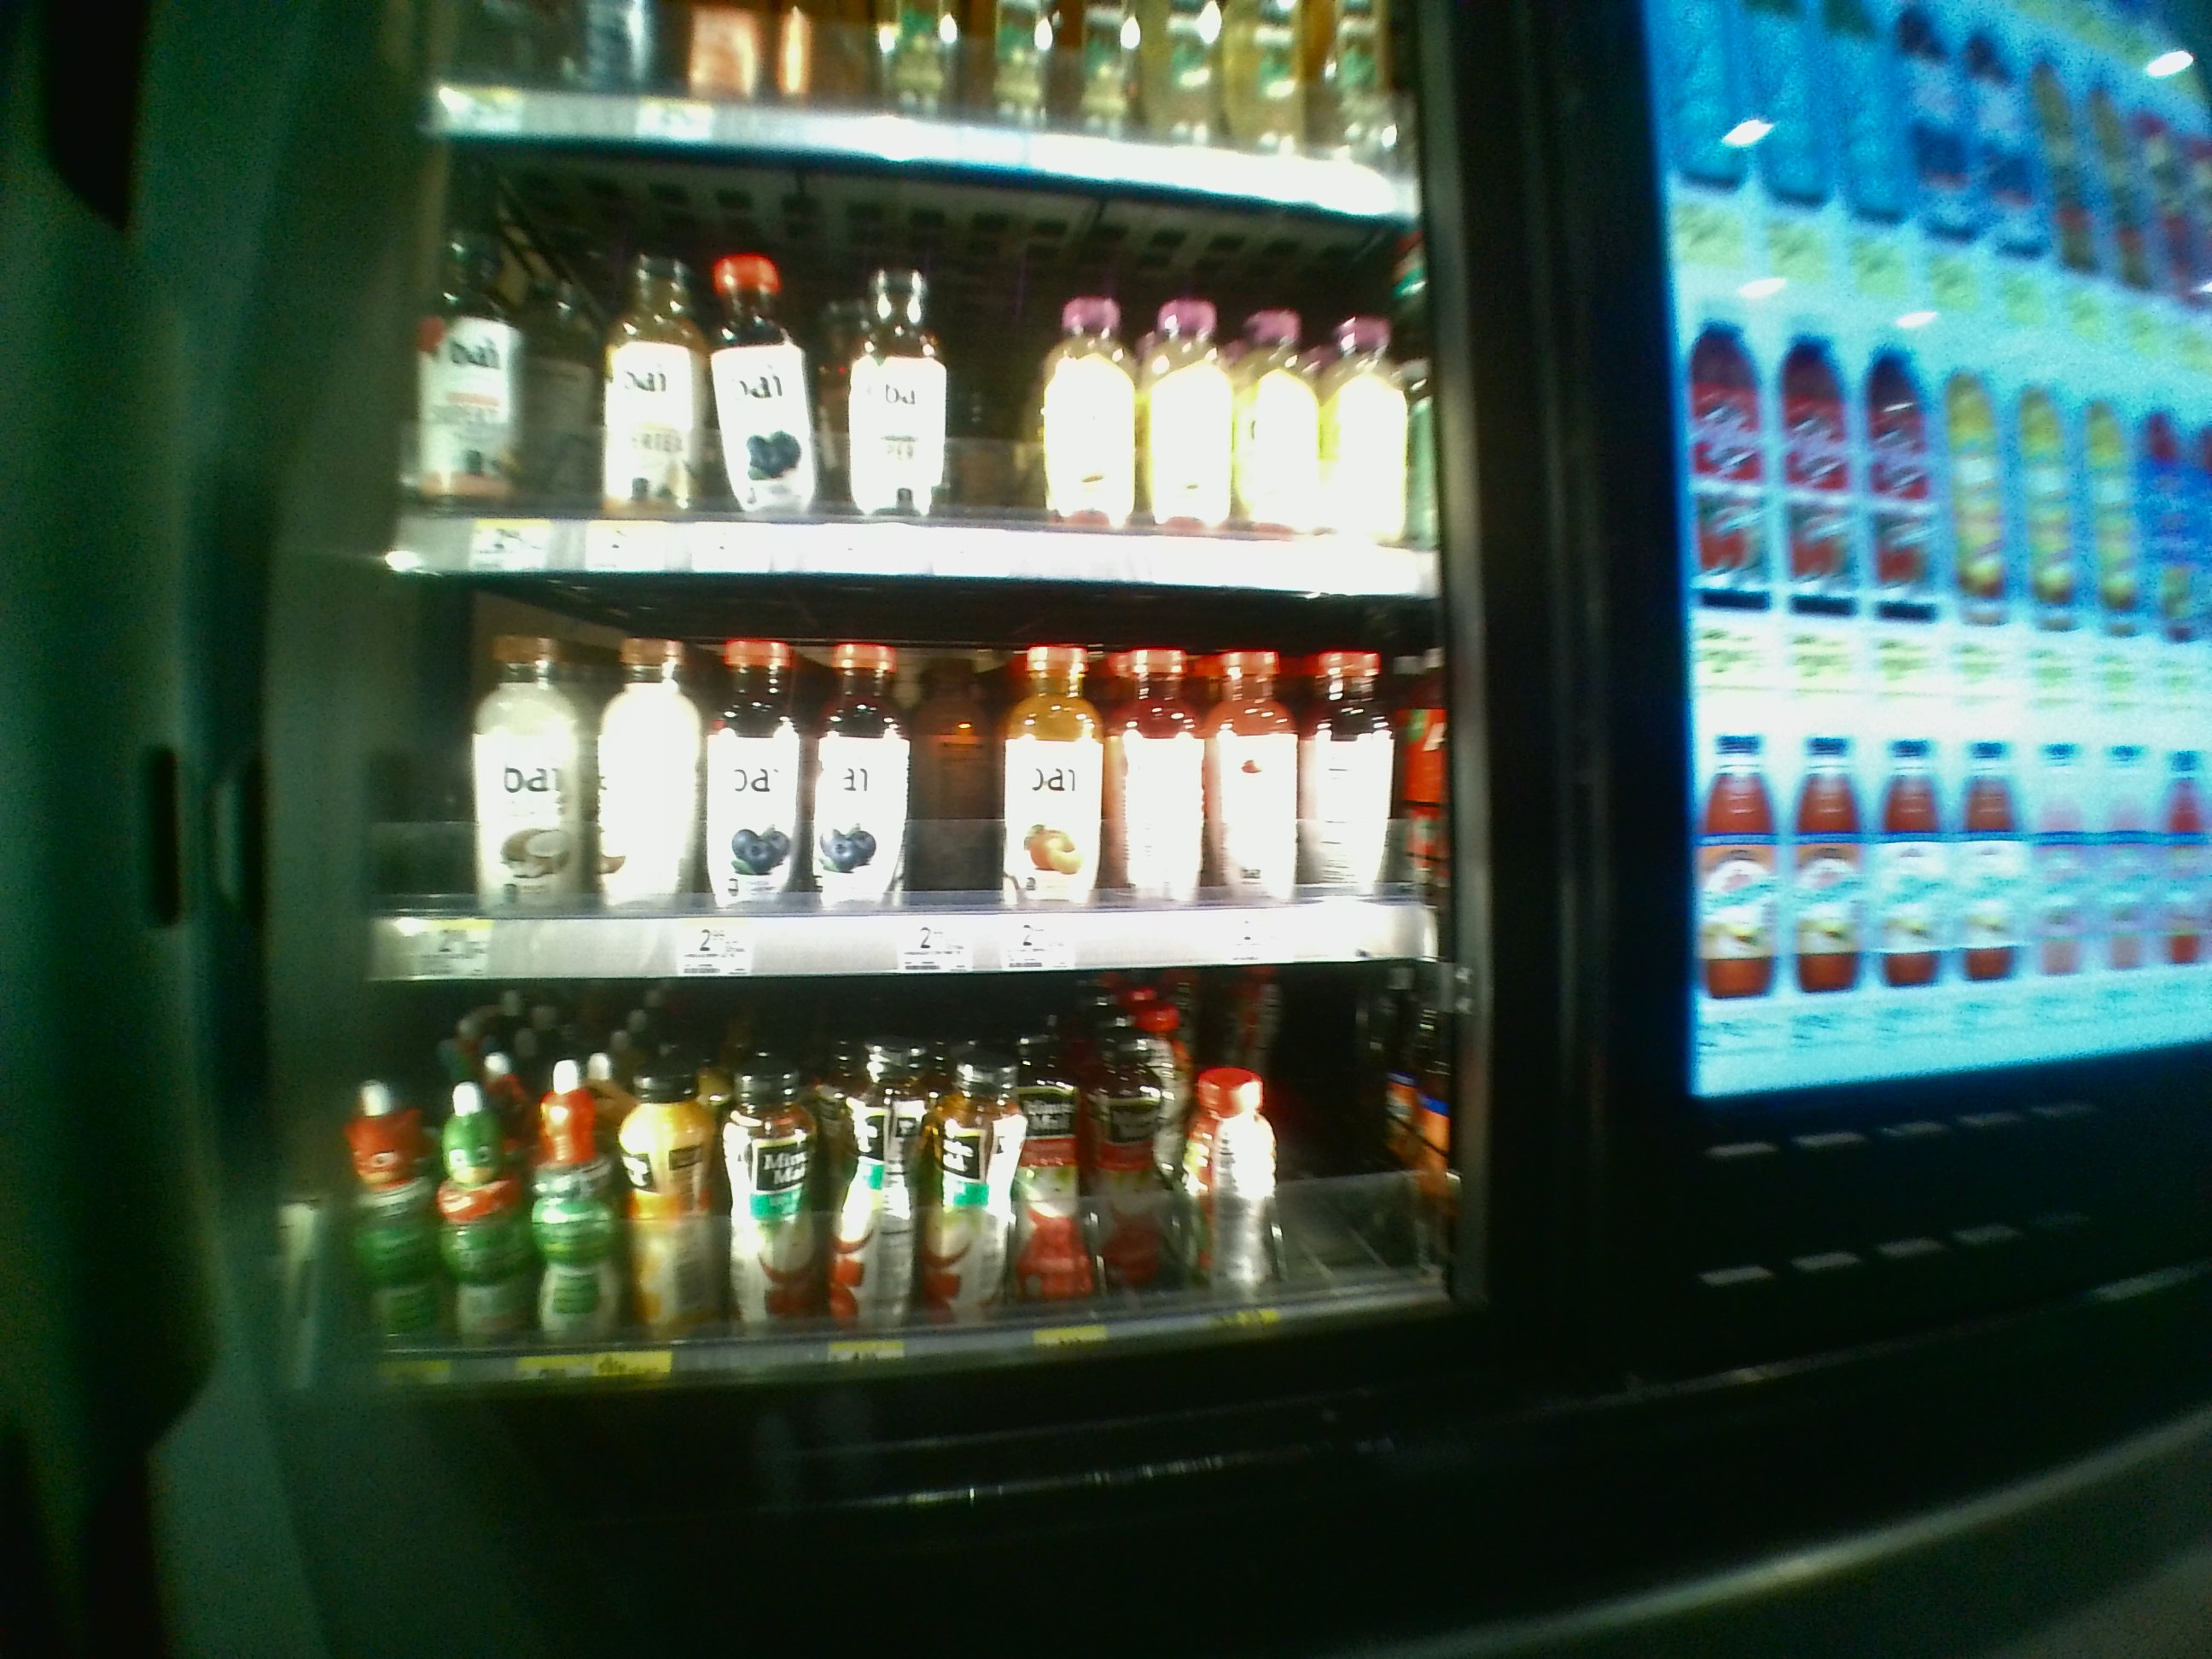shelf: (392, 131, 1453, 579), (371, 579, 1456, 974), (355, 985, 1460, 1356)
